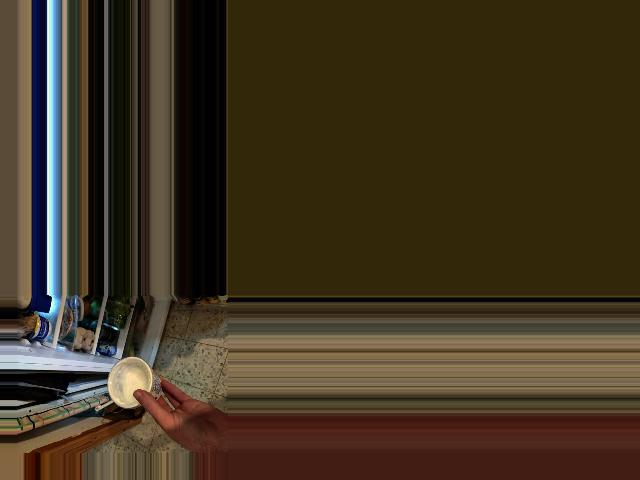cotage: (111, 370, 160, 409)
